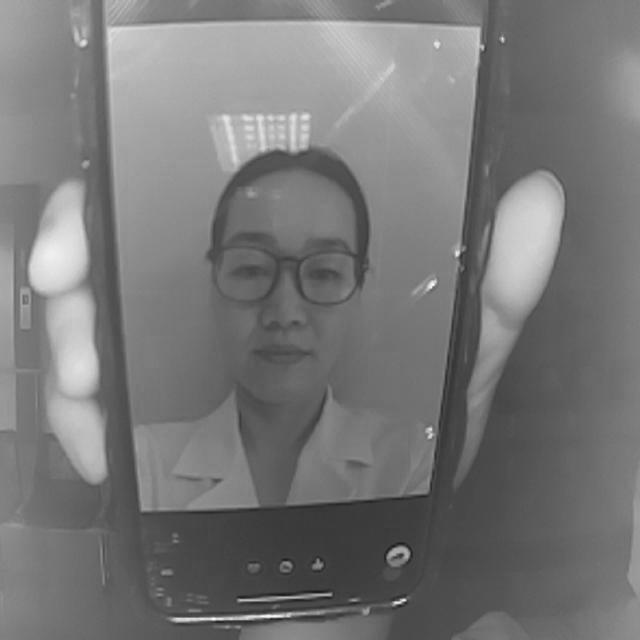fake: (86, 1, 508, 640)
